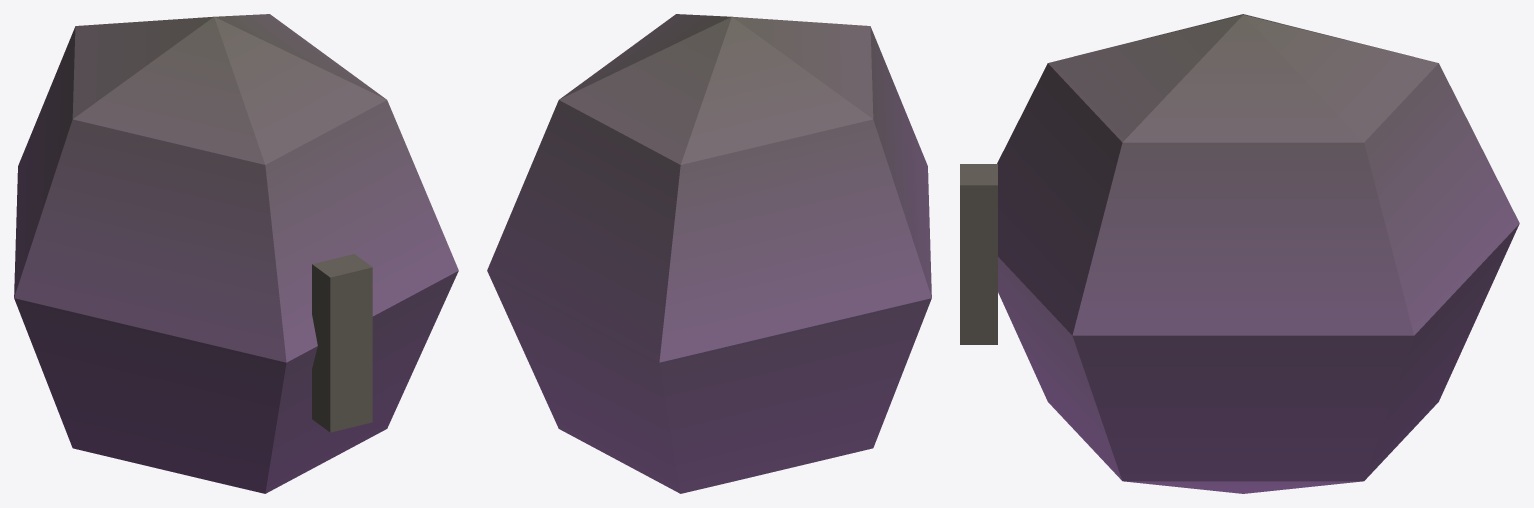
Rendered from head_eyeless_D.glb.
The picture shows the model from 3 angles, left to right: view 1: azimuth 30°, elevation 25°; view 2: azimuth 150°, elevation 25°; view 3: azimuth 270°, elevation 25°; orthographic projection. The views are drawn at different scales.
Size of the model in its own units: 0.7689 by 0.9445 by 1.
